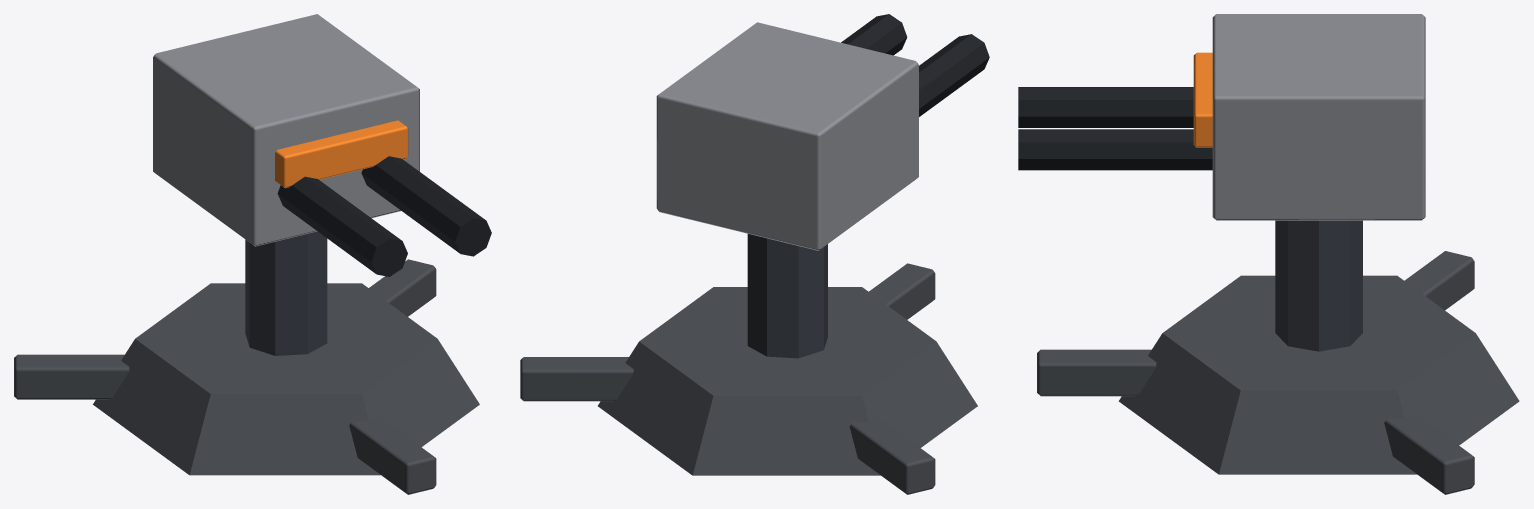
Rendered from rock_turret.glb.
The picture shows the model from 3 angles, left to right: view 1: azimuth 30°, elevation 25°; view 2: azimuth 150°, elevation 25°; view 3: azimuth 270°, elevation 25°; orthographic projection. The views are drawn at different scales.
Parts seen in each view (by area): view 1: base, head, post, barrel_R, barrel_L, eye, leg_2, leg_0, leg_1; view 2: head, base, post, leg_1, leg_2, barrel_R, leg_0, barrel_L; view 3: base, head, post, barrel_L, barrel_R, leg_0, leg_1, leg_2, eye.
Part boxes in pixels (x1=…): base: x1=93, y1=283, x2=479, y2=475; head: x1=153, y1=14, x2=419, y2=246; post: x1=245, y1=231, x2=327, y2=355; barrel_R: x1=277, y1=176, x2=407, y2=276; barrel_L: x1=361, y1=156, x2=491, y2=256; eye: x1=275, y1=120, x2=408, y2=188; leg_2: x1=14, y1=354, x2=129, y2=399; leg_0: x1=349, y1=415, x2=436, y2=494; leg_1: x1=369, y1=259, x2=436, y2=316; head: x1=656, y1=22, x2=918, y2=250; base: x1=598, y1=287, x2=977, y2=475; post: x1=747, y1=234, x2=827, y2=358; leg_1: x1=520, y1=357, x2=633, y2=401; leg_2: x1=849, y1=416, x2=935, y2=494; barrel_R: x1=919, y1=34, x2=989, y2=116; leg_0: x1=869, y1=263, x2=935, y2=319; barrel_L: x1=841, y1=14, x2=907, y2=55; base: x1=1118, y1=275, x2=1519, y2=474; head: x1=1212, y1=14, x2=1425, y2=220; post: x1=1275, y1=220, x2=1362, y2=351; barrel_L: x1=1018, y1=129, x2=1212, y2=170; barrel_R: x1=1018, y1=87, x2=1193, y2=127; leg_0: x1=1037, y1=349, x2=1156, y2=396; leg_1: x1=1384, y1=412, x2=1474, y2=494; leg_2: x1=1404, y1=251, x2=1474, y2=310; eye: x1=1193, y1=52, x2=1212, y2=147.
Size of the model in its own units: 0.8034 by 0.61 by 0.8.
